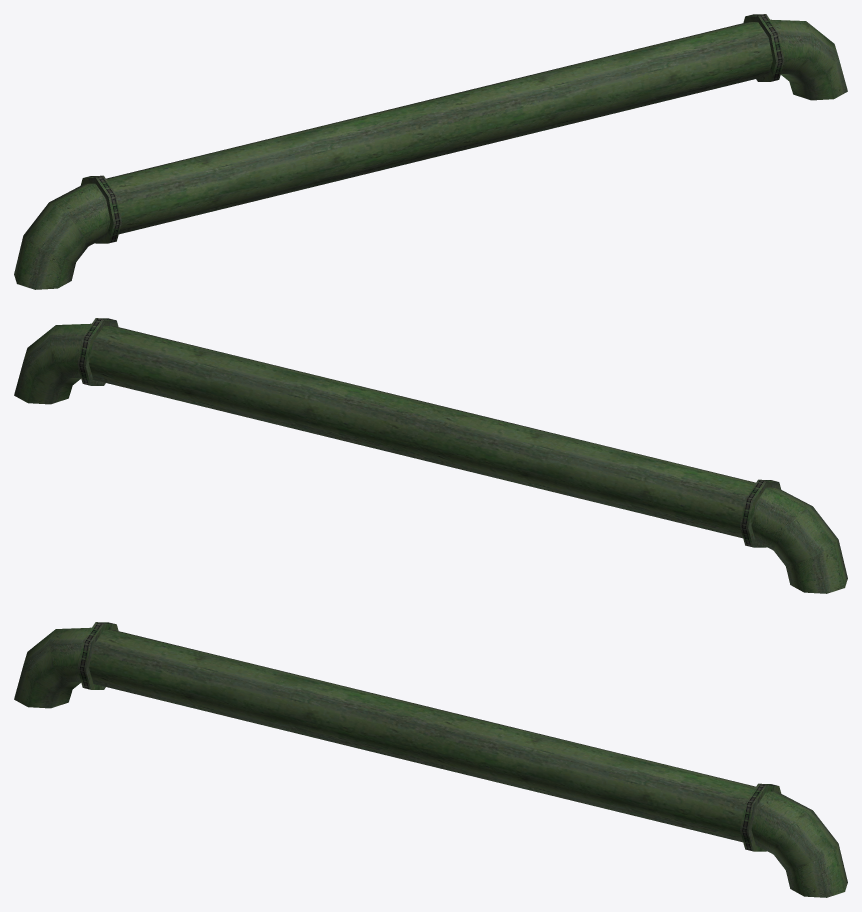
The model's file is curved_ends_green_4m.fbx.
3 views of the same model, one above another, from view 1: azimuth 30°, elevation 25°; view 2: azimuth 150°, elevation 25°; view 3: azimuth 330°, elevation 25° (orthographic).
Parts seen in each view (by area): view 1: mesh_0; view 2: mesh_0; view 3: mesh_0.
Part boxes in pixels (<box>): mesh_0: <box>14,14,847,289</box>; mesh_0: <box>14,318,847,593</box>; mesh_0: <box>14,622,847,897</box>.
Size of the model in its own units: 400 by 40.17 by 30.47.
Materials: 1 (1 with a texture image).
